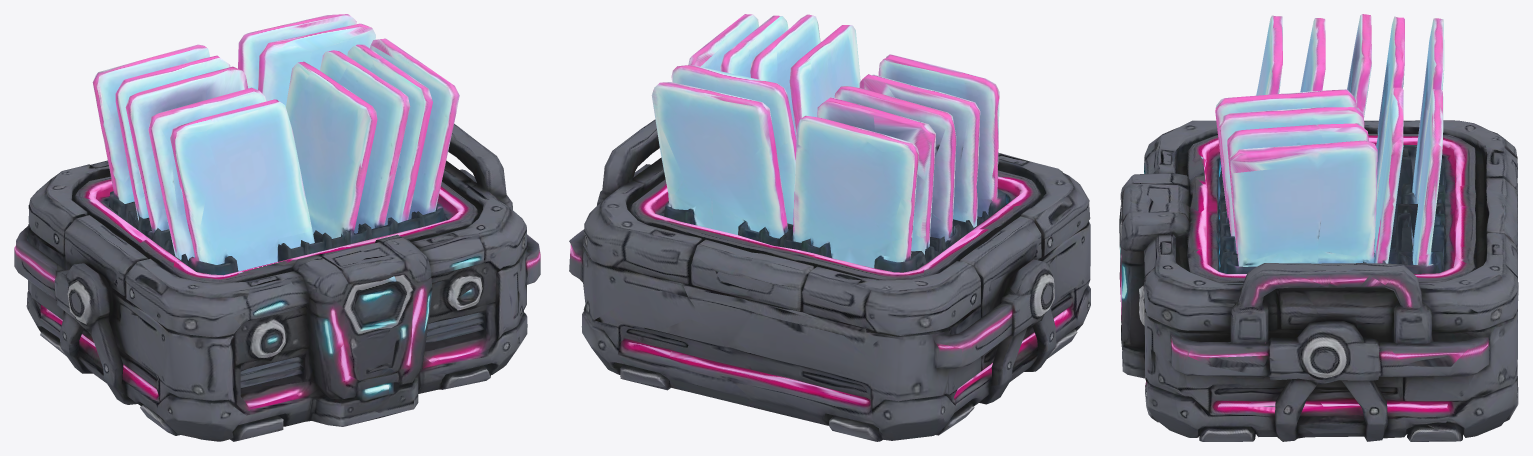
Rendered from prop-deck.glb.
3 renders of one model, left to right at view 1: azimuth 30°, elevation 25°; view 2: azimuth 150°, elevation 25°; view 3: azimuth 270°, elevation 25°, orthographic. The views are drawn at different scales.
Visible parts, largest first — view 1: body; view 2: body; view 3: body.
Part boxes in pixels (x1,y1,x2,y2): body: [14, 14, 540, 441]; body: [569, 14, 1090, 441]; body: [1119, 14, 1518, 441].
Bounding box in the file's own units: 1.54 × 0.9992 × 1.26.
1 material, 1 textured.
